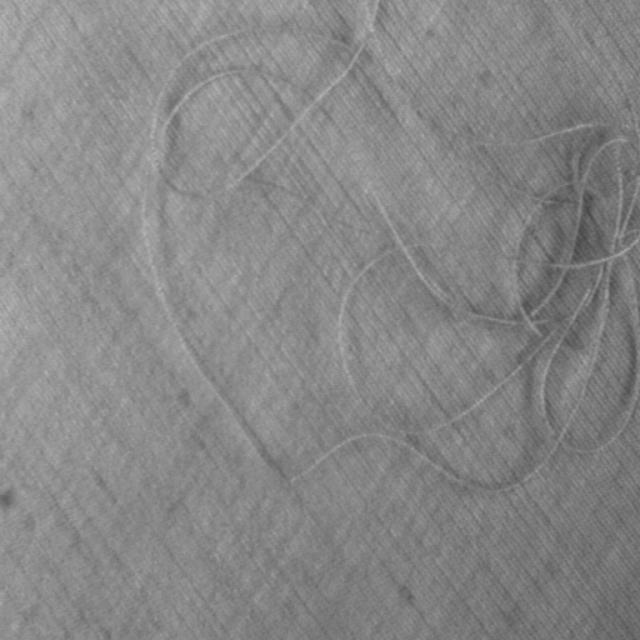Thread: (138, 0, 640, 507)
